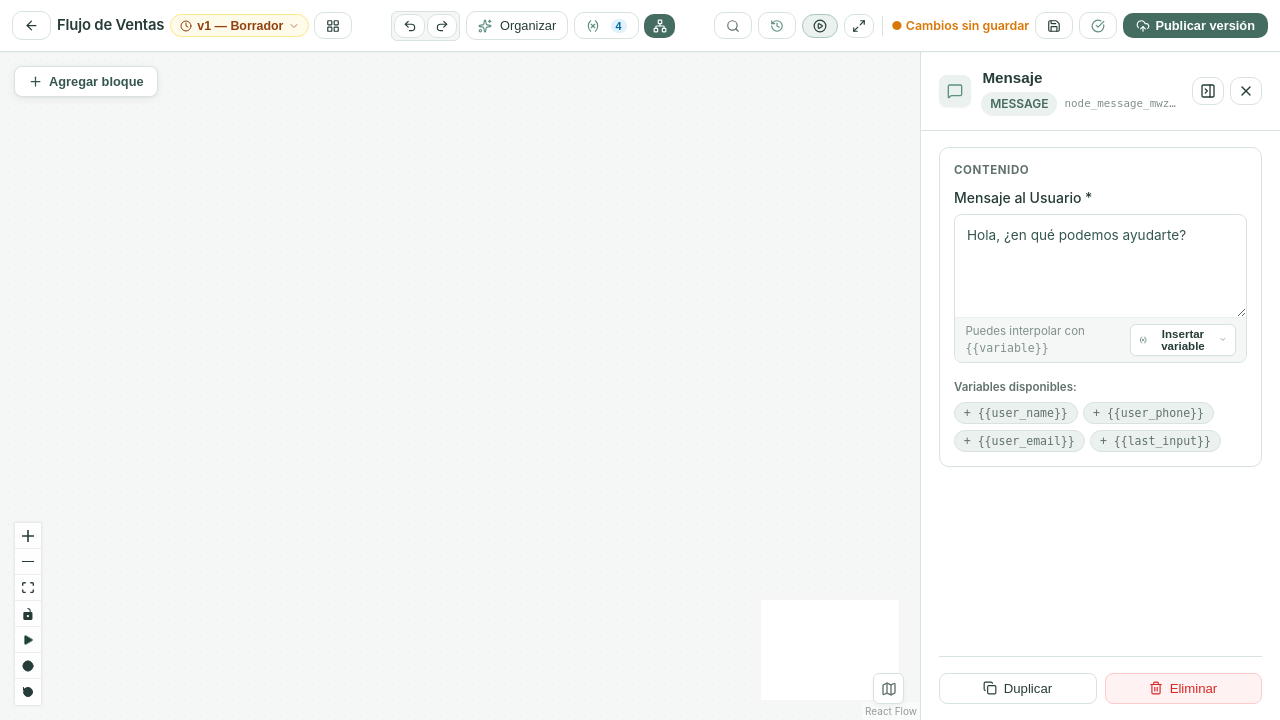
Test: FlowEditor › handles optimistic concurrency conflict (409 Conflict) on save
Earlier steps of the test are not shown.
What coordinates should you click on to do the following:
click the button named "Guardar"
I would click on:
 (1054, 26)
Its box is [1035,12,1073,39].
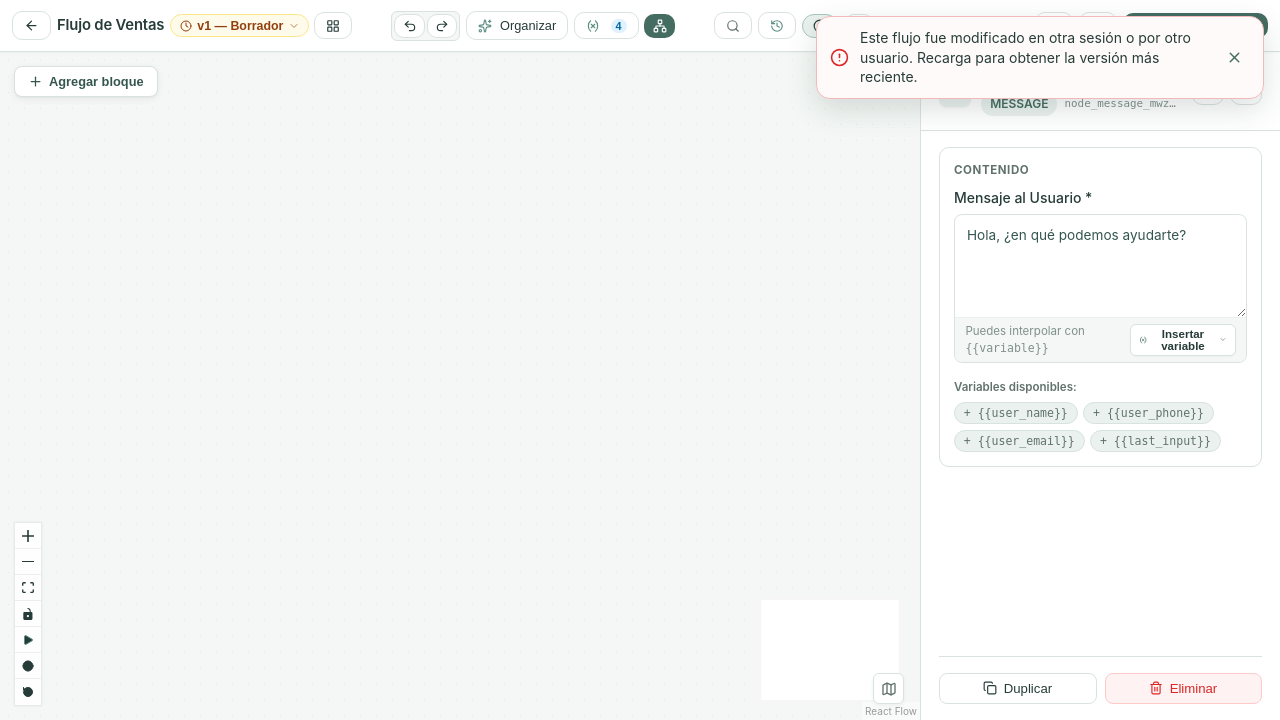
Expected: the text "Este flujo fue modificado en otra sesión" is shown, [860,29,1191,85]
